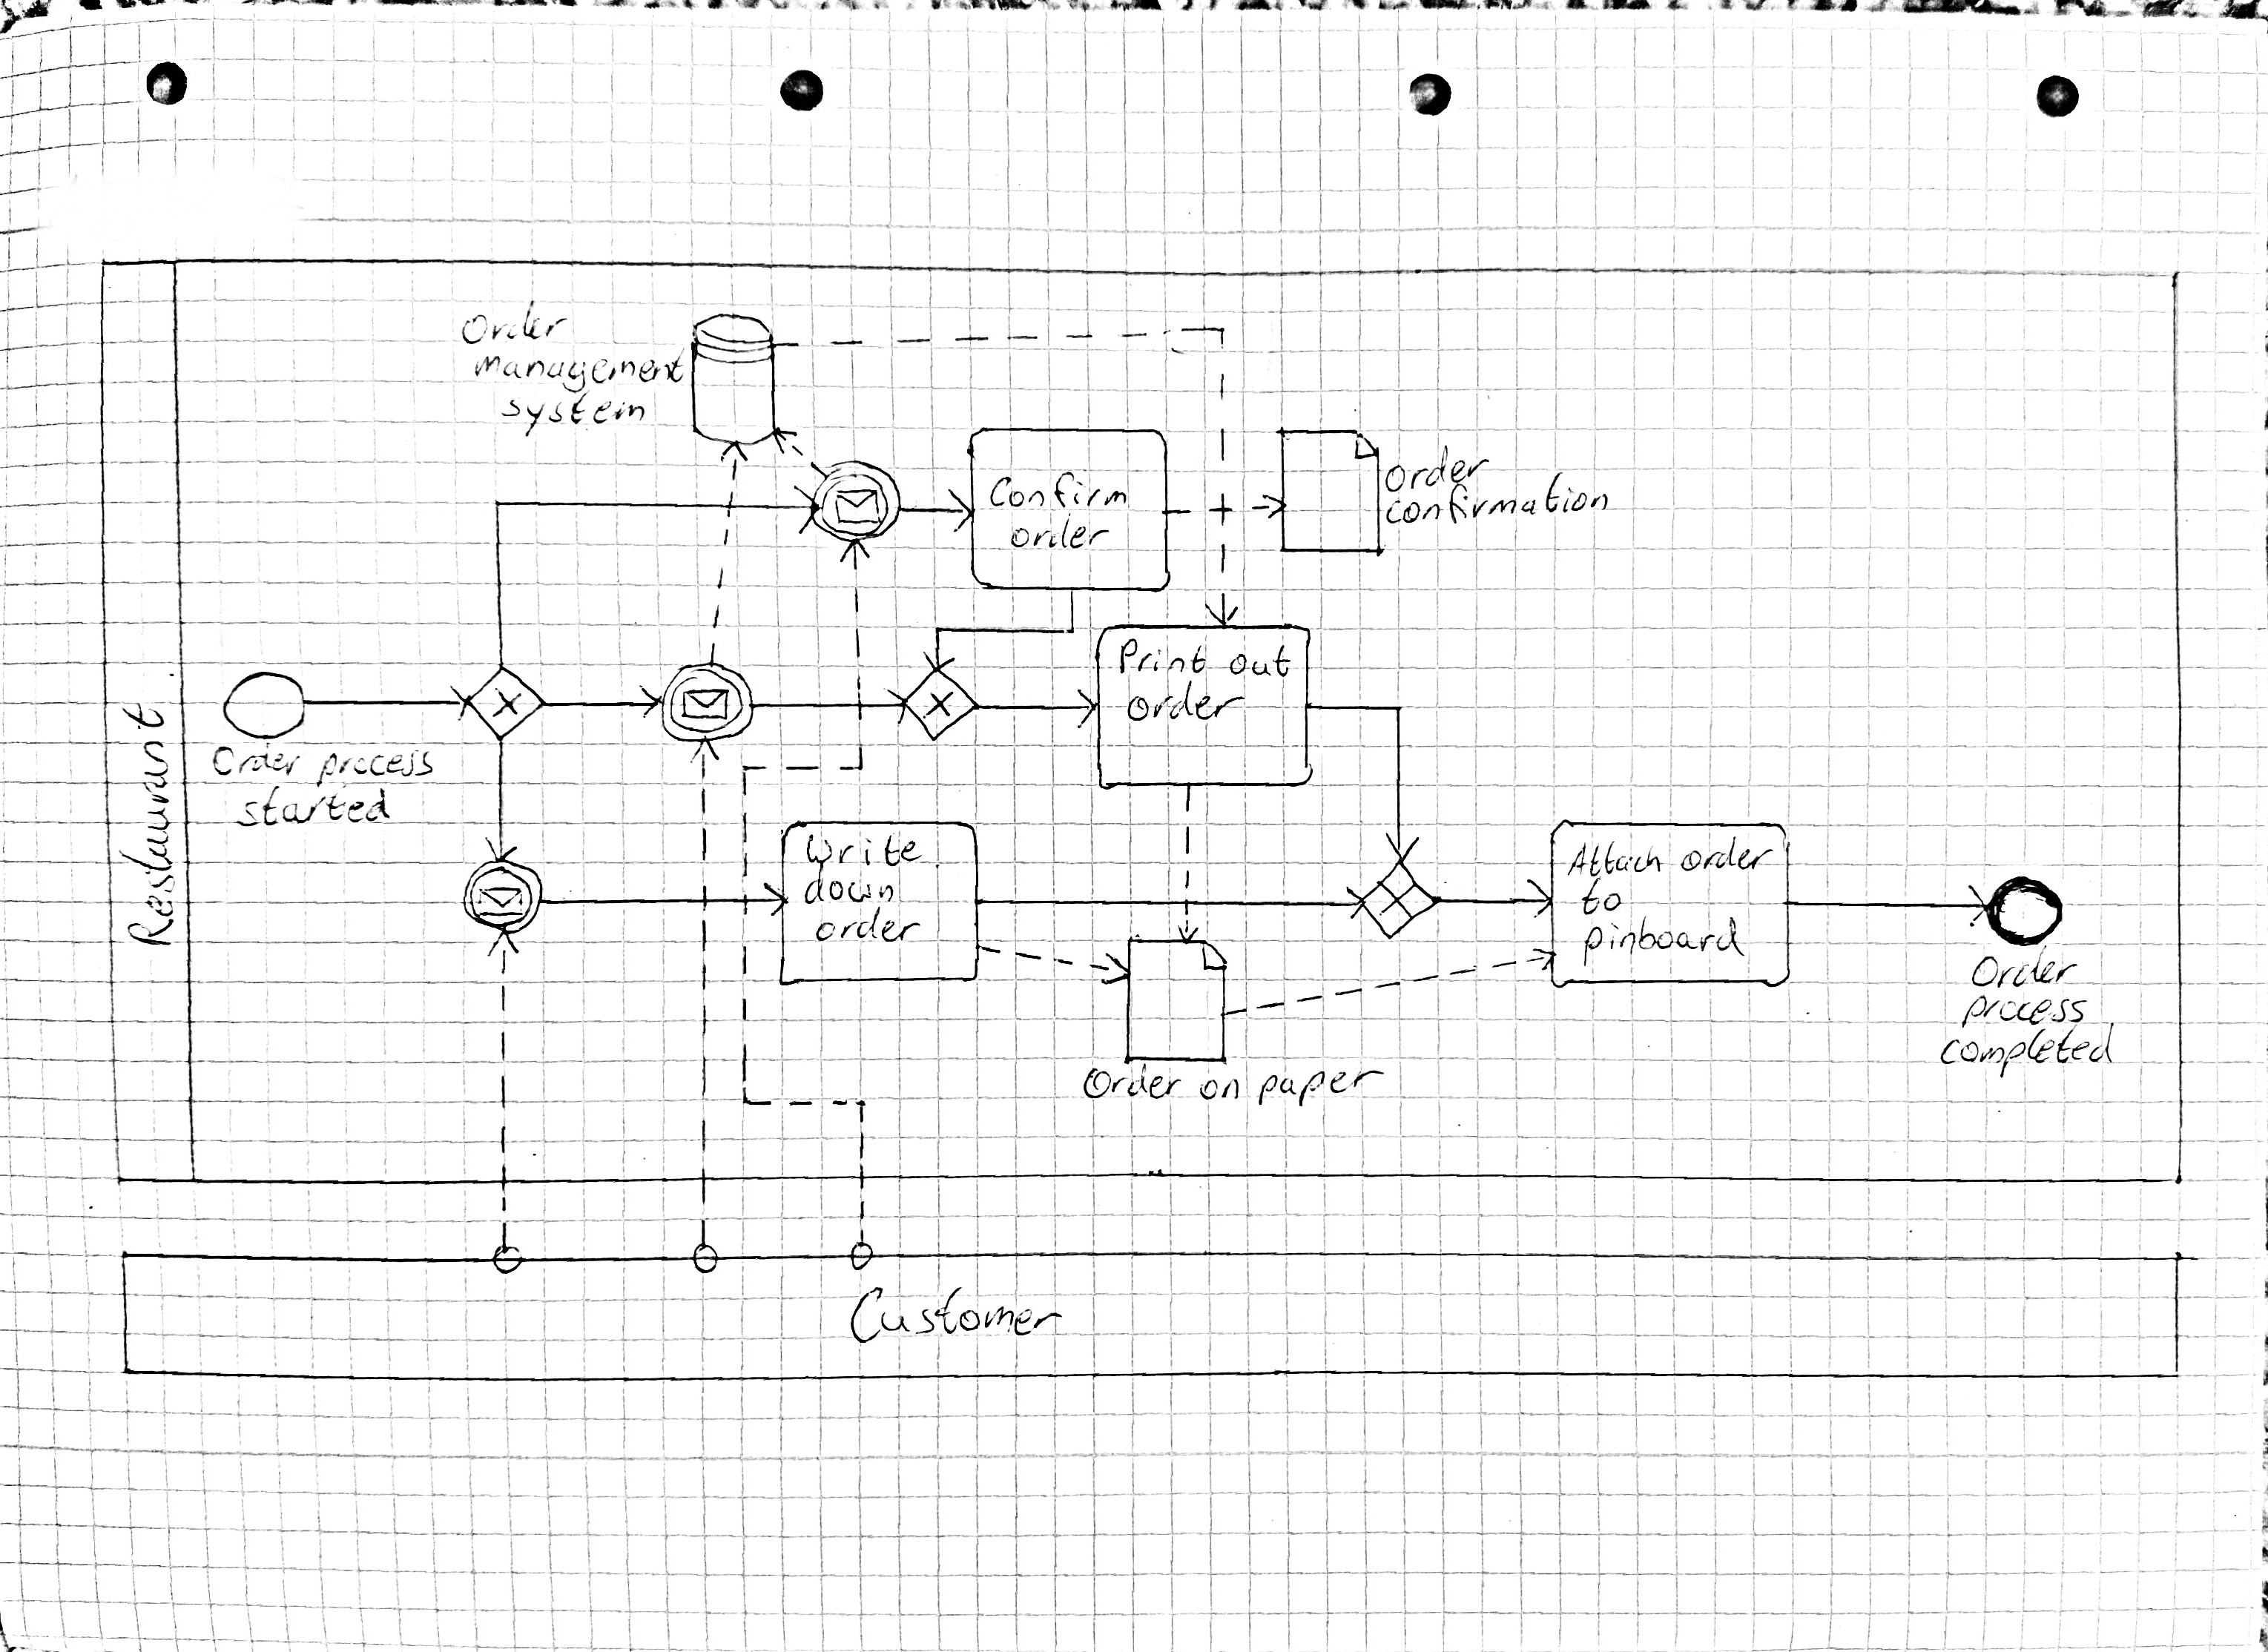Attach: (1562, 840, 1671, 877)
Confirm: (984, 472, 1132, 514)
Customer: (849, 1286, 1064, 1346)
Order: (454, 299, 574, 347), (1969, 948, 2087, 990), (1078, 1062, 1189, 1104), (213, 740, 313, 784)
Print: (1106, 638, 1213, 682)
Restaurant: (120, 699, 180, 949)
Write: (799, 830, 930, 863)
completed: (1939, 1025, 2117, 1076)
confirmation: (1381, 488, 1615, 541)
down: (801, 867, 905, 905)
management: (470, 350, 687, 395)
on: (1196, 1069, 1248, 1106)
order: (1127, 678, 1247, 726), (1384, 442, 1491, 490), (1675, 835, 1775, 882), (1011, 511, 1115, 555), (812, 907, 923, 948)
out: (1227, 643, 1294, 685)
paper: (1259, 1062, 1384, 1106)
pinboard: (1576, 916, 1749, 969)
process: (1955, 992, 2094, 1029), (320, 745, 437, 784)
started: (236, 784, 394, 831)
system: (493, 393, 650, 435)
to: (1579, 874, 1634, 921)
